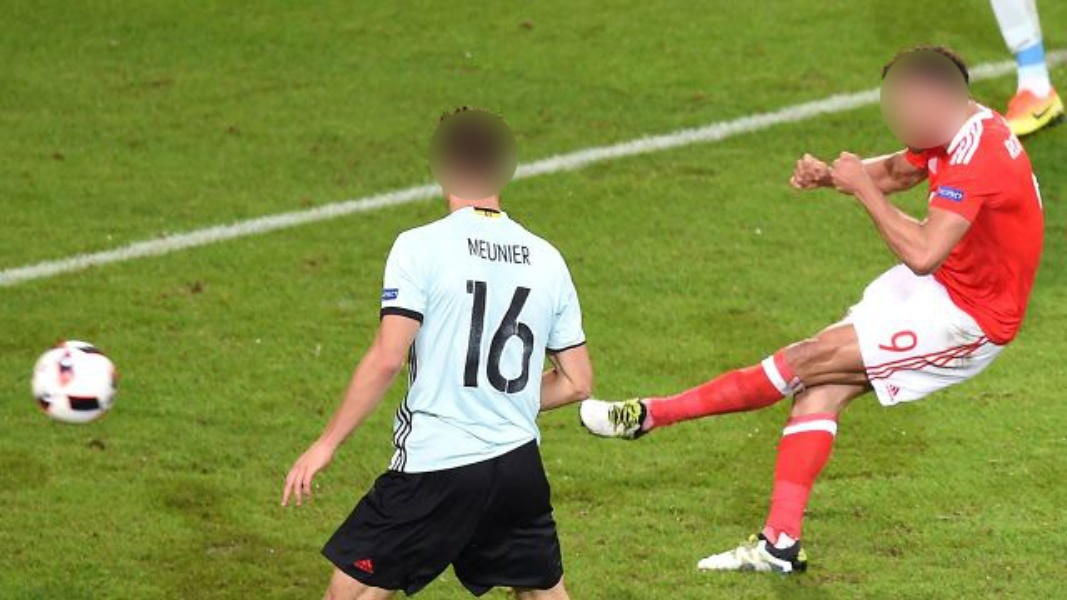text: (465, 276, 480, 399), (481, 276, 496, 399), (497, 276, 512, 399), (513, 276, 528, 399), (529, 276, 544, 399), (881, 322, 896, 354), (897, 322, 912, 354), (481, 237, 496, 266), (497, 237, 512, 266), (513, 237, 528, 266), (466, 237, 480, 266), (462, 276, 464, 399), (545, 276, 547, 399), (945, 186, 960, 202), (876, 322, 880, 354), (913, 322, 917, 354), (936, 186, 944, 202), (961, 186, 969, 202), (529, 237, 531, 266)
